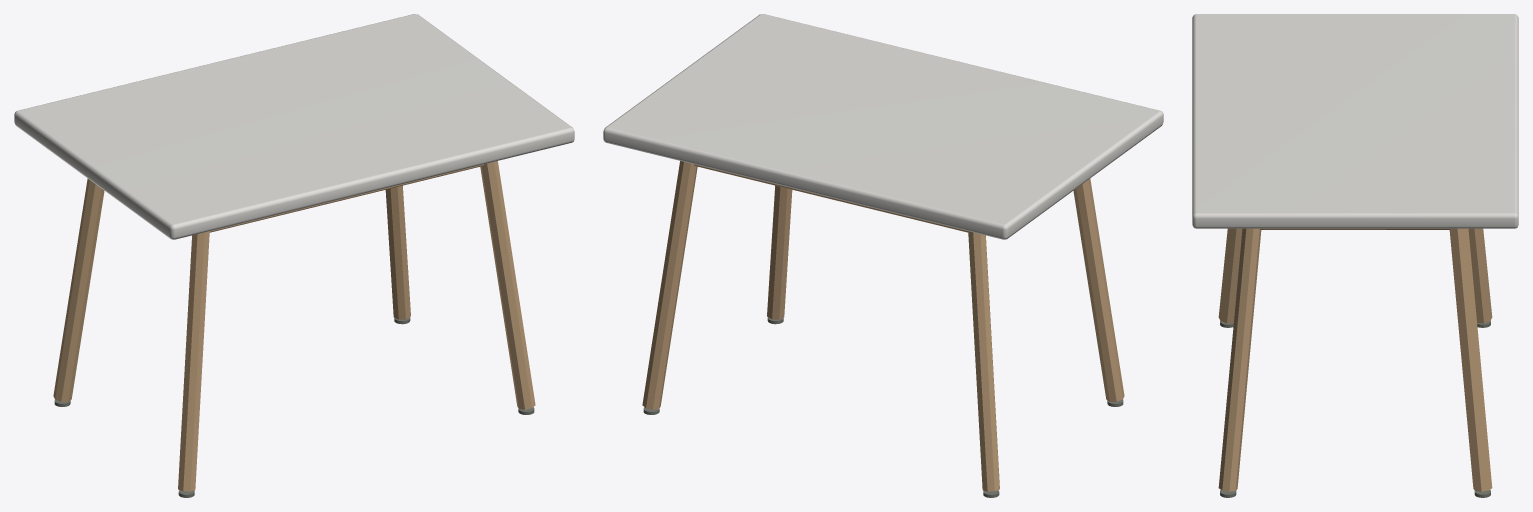
File: breakfast-nook-table.glb
The picture shows the model from 3 angles, left to right: view 1: azimuth 30°, elevation 25°; view 2: azimuth 150°, elevation 25°; view 3: azimuth 270°, elevation 25°; orthographic projection. The views are drawn at different scales.
Visible parts, largest first — view 1: Tapered splayed leg; view 2: Tapered splayed leg; view 3: Tapered splayed leg.
Part boxes in pixels (<box>): Tapered splayed leg: <box>14,14,574,497</box>; Tapered splayed leg: <box>603,14,1163,497</box>; Tapered splayed leg: <box>1192,14,1518,497</box>.
Size of the model in its own units: 1.1 by 0.75 by 0.75.
